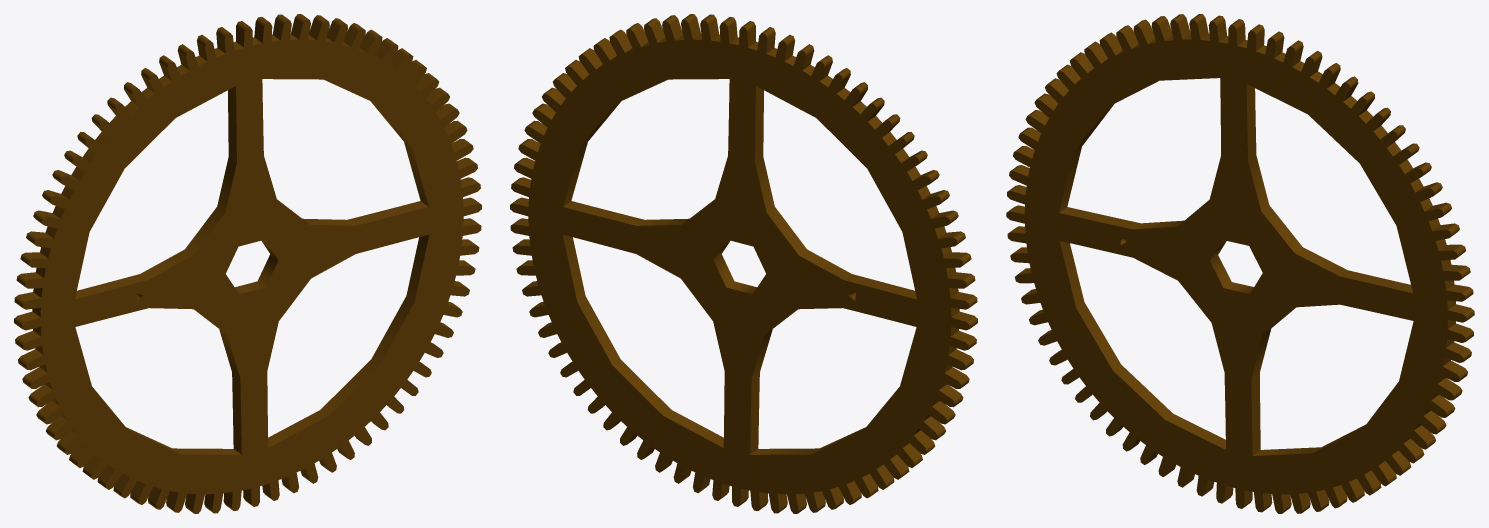
File: Roue dente_Roue intermediaire quantieme.obj
3 renders of one model, left to right at view 1: azimuth 30°, elevation 25°; view 2: azimuth 150°, elevation 25°; view 3: azimuth 330°, elevation 25°, orthographic.
Visible parts, largest first — view 1: Face_1, Face_298, Face_304, Face_299, Face_293, Face_305, Face_307, Face_303, Face_294, Face_302; view 2: Face_2, Face_298, Face_304, Face_299, Face_293, Face_305, Face_307, Face_303, Face_294, Face_302; view 3: Face_1, Face_302, Face_292, Face_297, Face_291, Face_306, Face_303, Face_307, Face_293.
Boxes of the visible parts, bbox=[...] form: Face_1: bbox=[22, 20, 481, 513]; Face_298: bbox=[268, 234, 428, 447]; Face_304: bbox=[140, 157, 236, 279]; Face_299: bbox=[232, 372, 241, 454]; Face_293: bbox=[347, 201, 428, 225]; Face_305: bbox=[228, 86, 236, 162]; Face_307: bbox=[235, 240, 278, 294]; Face_303: bbox=[75, 274, 147, 299]; Face_294: bbox=[370, 101, 428, 206]; Face_302: bbox=[126, 427, 241, 454]; Face_2: bbox=[510, 20, 969, 513]; Face_298: bbox=[563, 234, 723, 447]; Face_304: bbox=[755, 157, 851, 279]; Face_299: bbox=[750, 372, 759, 454]; Face_293: bbox=[563, 201, 644, 225]; Face_305: bbox=[755, 86, 763, 162]; Face_307: bbox=[713, 240, 756, 294]; Face_303: bbox=[844, 274, 916, 299]; Face_294: bbox=[563, 101, 621, 206]; Face_302: bbox=[750, 427, 865, 454]; Face_1: bbox=[1006, 20, 1466, 513]; Face_302: bbox=[1059, 241, 1225, 449]; Face_292: bbox=[1248, 155, 1347, 275]; Face_297: bbox=[1251, 373, 1260, 455]; Face_291: bbox=[1246, 84, 1256, 161]; Face_306: bbox=[1059, 104, 1113, 212]; Face_303: bbox=[1059, 207, 1140, 229]; Face_307: bbox=[1210, 240, 1253, 293]; Face_293: bbox=[1340, 270, 1412, 292].
Size of the model in its own units: 0.0609 by 0.0609 by 0.0019.
